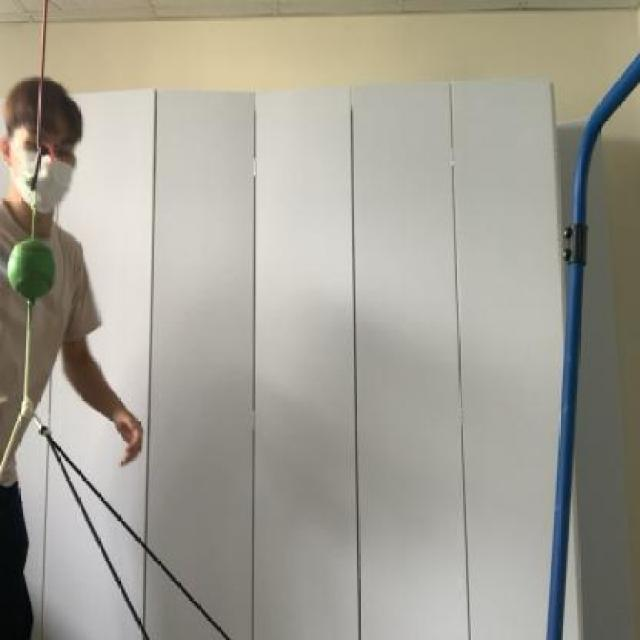baseball: (2, 232, 68, 298)
